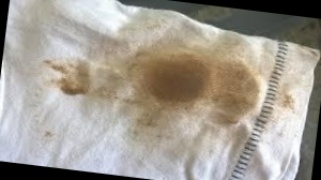earth: (138, 50, 259, 119), (56, 58, 92, 95)
